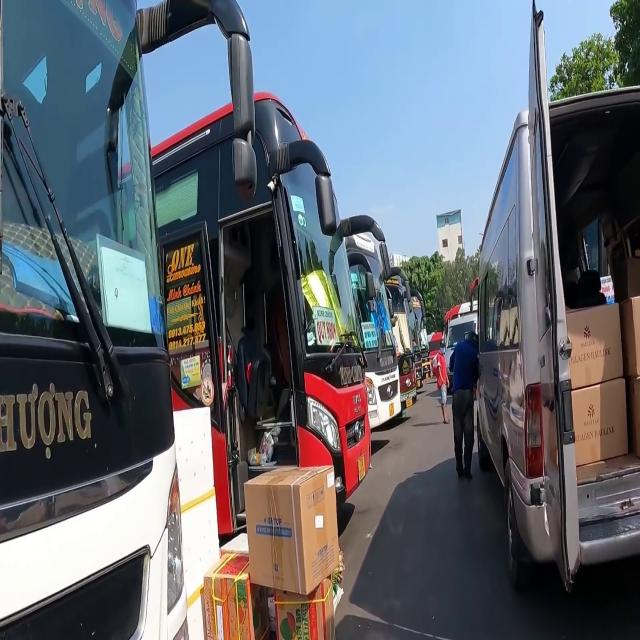bien_vang: (356, 453, 367, 482), (388, 403, 394, 417)
